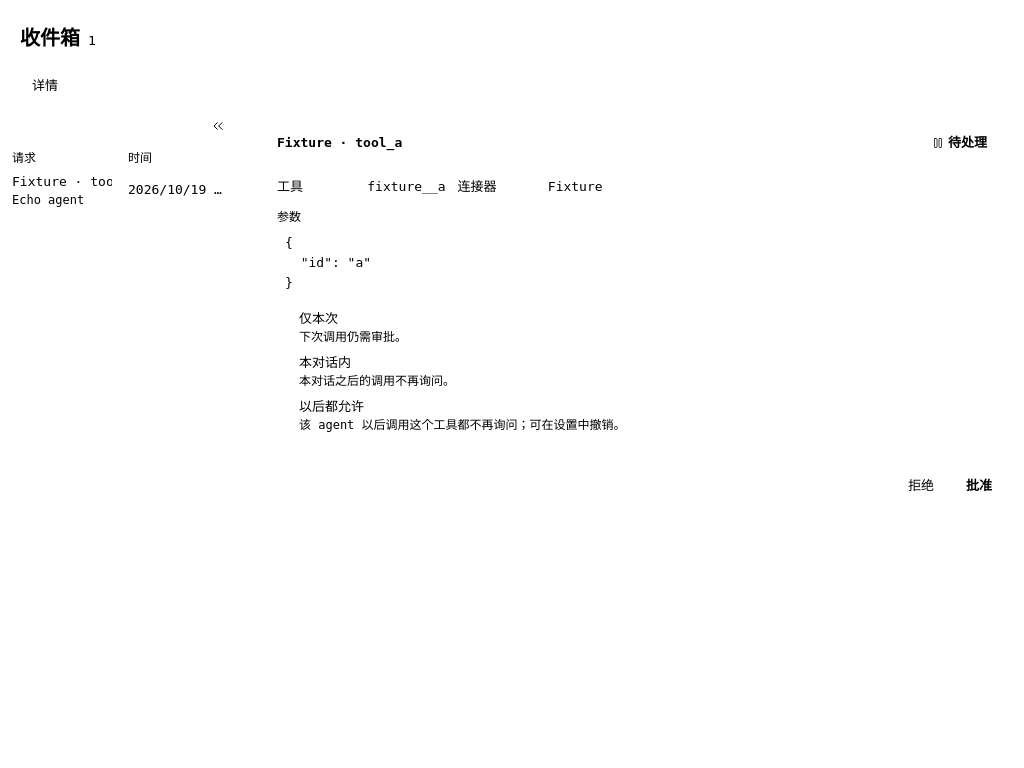
Test: 收件箱（InboxPage） › 已被别人处理：toast 显示 approval.already_decided 的文案并重读
Expected: the table named "待处理事项" is shown, [0,144,240,208]
Click the button "拒绝" at (921, 486), box [896,472,946,500]
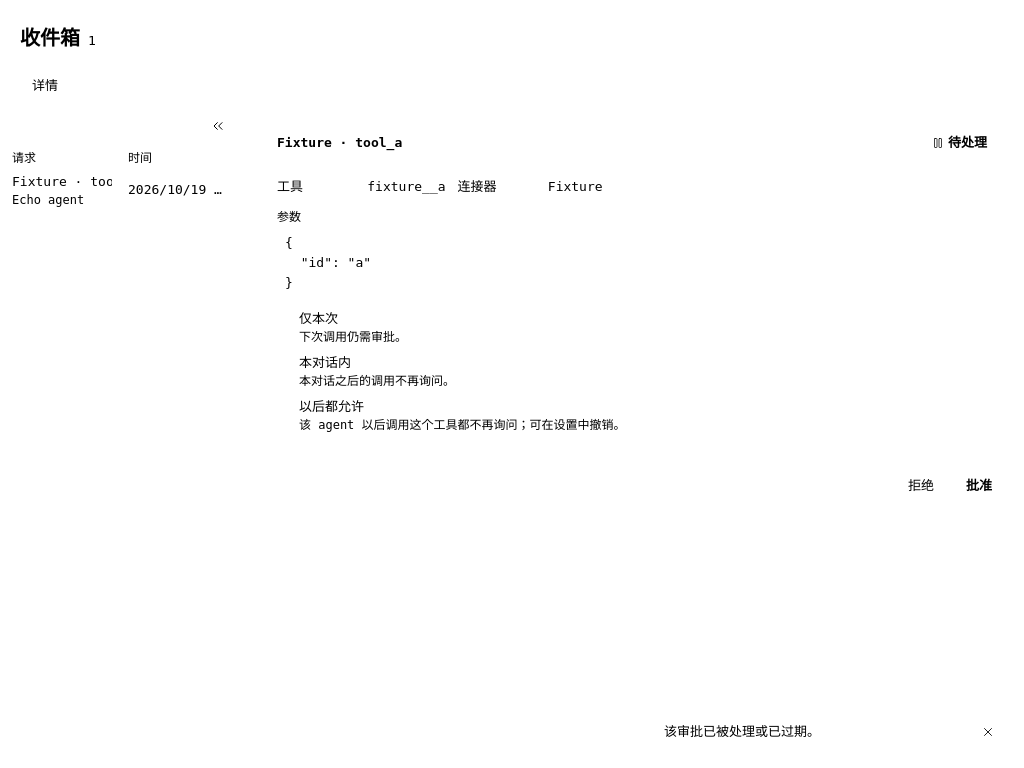
Result: the text "该审批已被处理或已过期。" is shown at [664,724,820,739]
